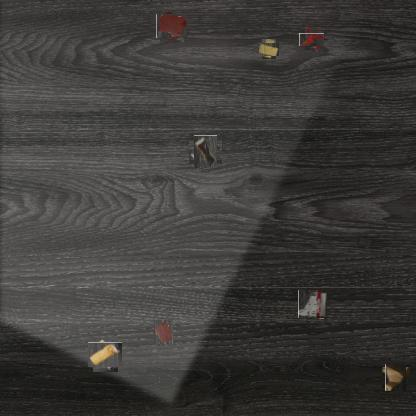dirty: (91, 340, 120, 370), (191, 138, 220, 166), (299, 290, 327, 319), (384, 365, 408, 390), (302, 30, 321, 49), (261, 40, 277, 58)
liquid: (158, 13, 186, 40), (152, 321, 174, 343)
